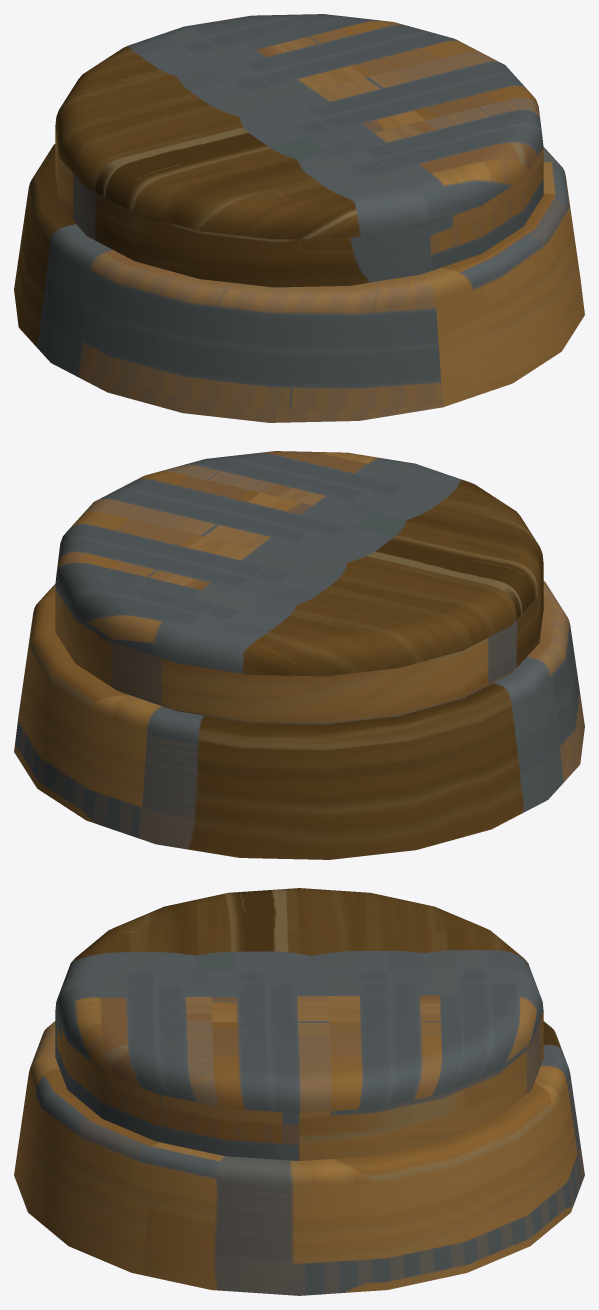
3 views of the same model, one above another, from view 1: azimuth 30°, elevation 25°; view 2: azimuth 150°, elevation 25°; view 3: azimuth 270°, elevation 25° (orthographic).
Parts seen in each view (by area): view 1: buttonGreen; view 2: buttonGreen; view 3: buttonGreen.
Boxes of the visible parts, box(x1,y1,x2,y2) form: buttonGreen: box(14, 14, 584, 422); buttonGreen: box(14, 451, 584, 859); buttonGreen: box(14, 888, 584, 1295).
Size of the model in its own units: 0.4609 by 0.172 by 0.4609.
